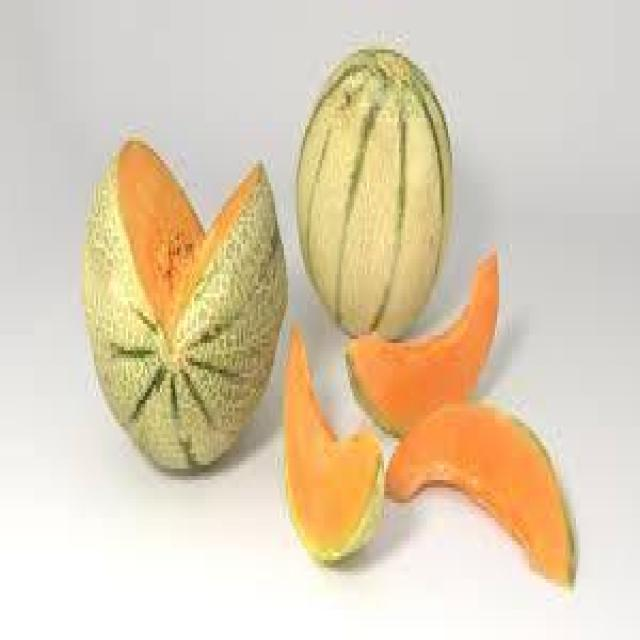organic: (286, 46, 578, 590), (79, 137, 288, 476)
